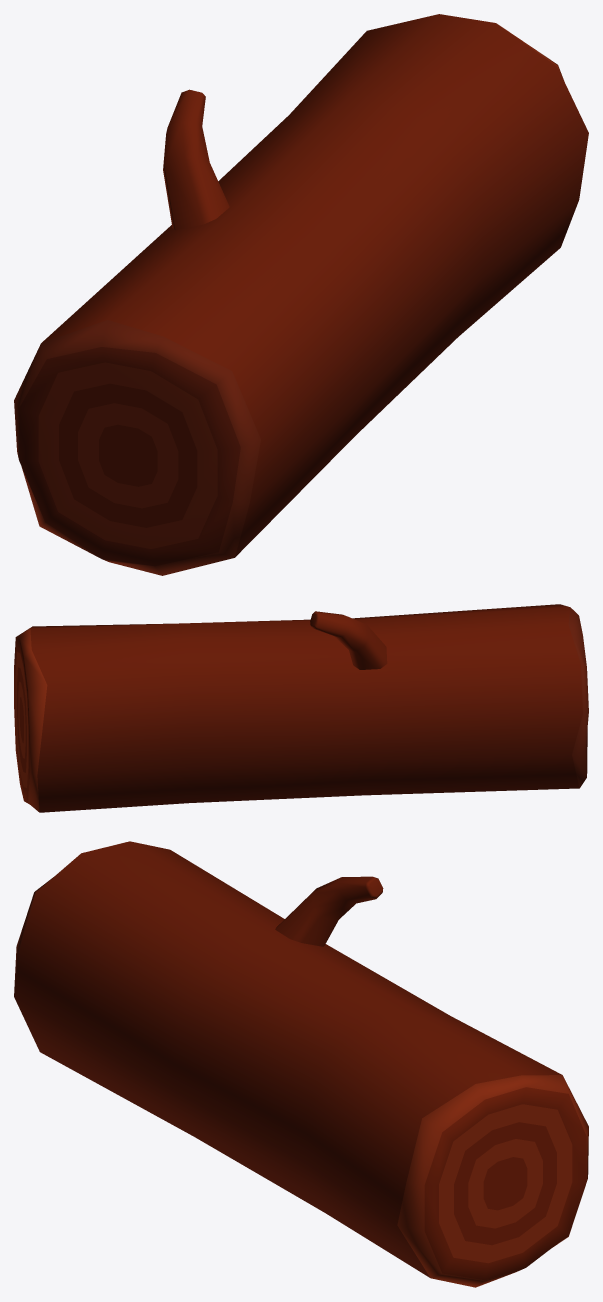
Rendered from Obstacle_Tree_04.fbx.
3 views of the same model, one above another, from view 1: azimuth 30°, elevation 25°; view 2: azimuth 150°, elevation 25°; view 3: azimuth 270°, elevation 25° (orthographic). The views are drawn at different scales.
Parts seen in each view (by area): view 1: Obstacle_Tree_04; view 2: Obstacle_Tree_04; view 3: Obstacle_Tree_04.
Boxes of the visible parts, <box> form: Obstacle_Tree_04: <box>14,14,588,575</box>; Obstacle_Tree_04: <box>14,604,588,812</box>; Obstacle_Tree_04: <box>14,841,588,1287</box>.
Size of the model in its own units: 0.6632 by 0.2786 by 0.5568.
